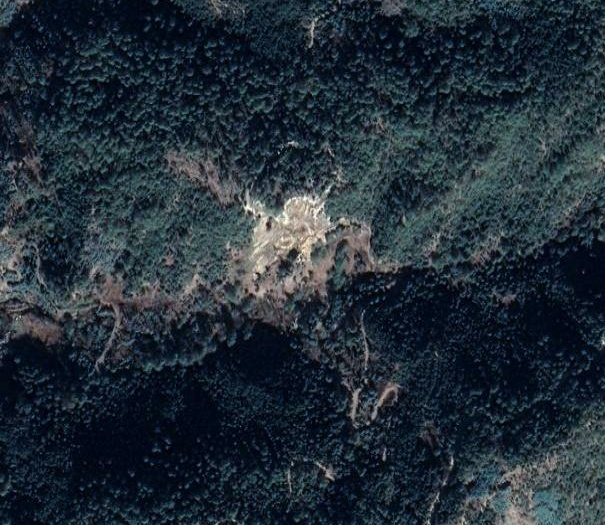slope: (222, 188, 394, 334)
